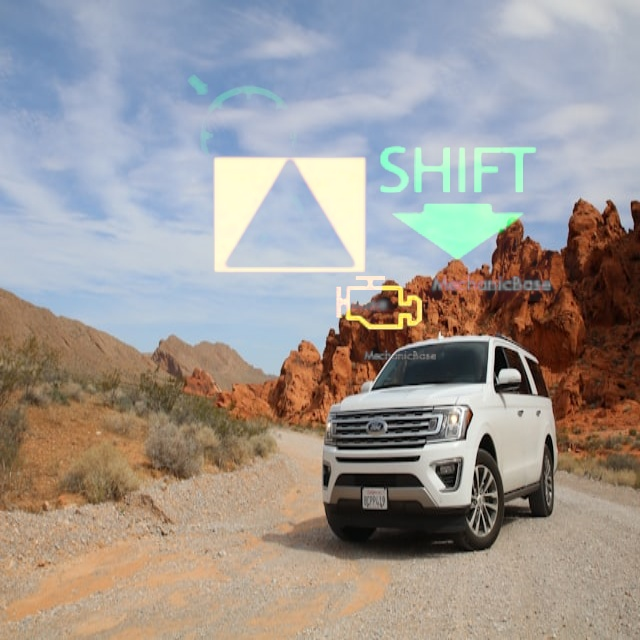symbol: (185, 111, 395, 321), (351, 93, 559, 301), (144, 33, 341, 230), (315, 240, 441, 366)
